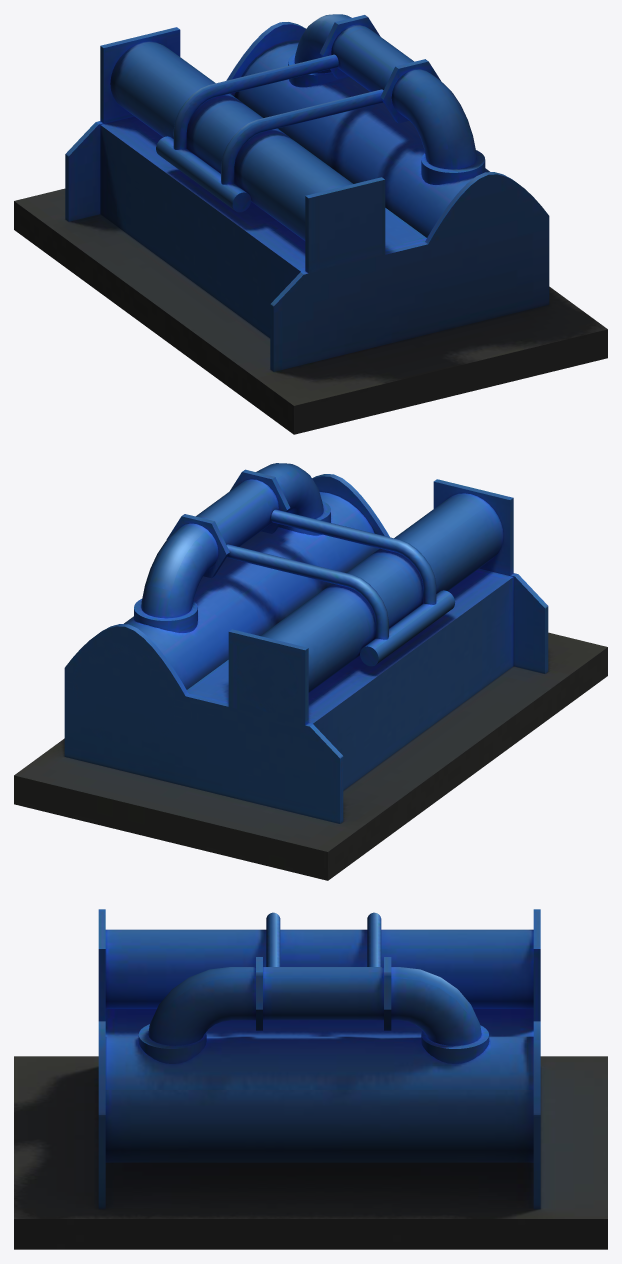
Rendered from fadianji2.obj.
3 renders of one model, top to bottom at view 1: azimuth 30°, elevation 25°; view 2: azimuth 150°, elevation 25°; view 3: azimuth 270°, elevation 25°, orthographic. The views are drawn at different scales.
Parts seen in each view (by area): view 1: Cylinder09; view 2: Cylinder09; view 3: Cylinder09.
Part boxes in pixels (<box>): Cylinder09: <box>14,14,607,434</box>; Cylinder09: <box>14,463,607,880</box>; Cylinder09: <box>14,909,607,1249</box>.
Size of the model in its own units: 381 by 266 by 589.
Materials: 1 (1 with a texture image).
